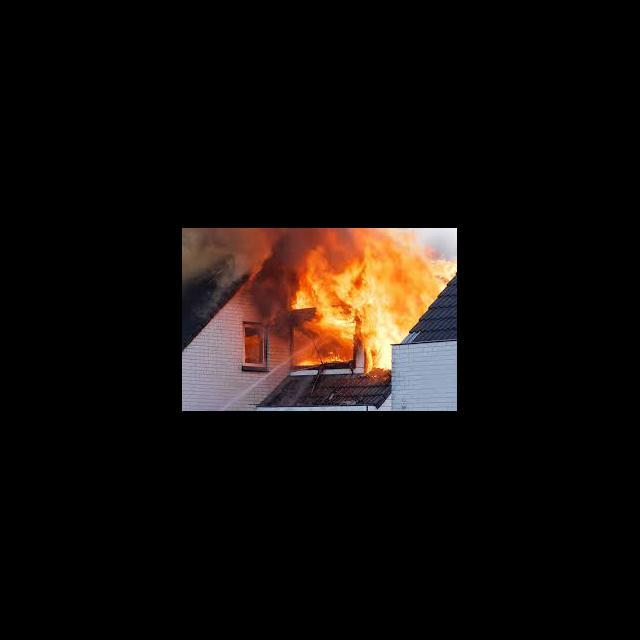Fire: (288, 242, 457, 376)
Smoke: (184, 230, 286, 313)
